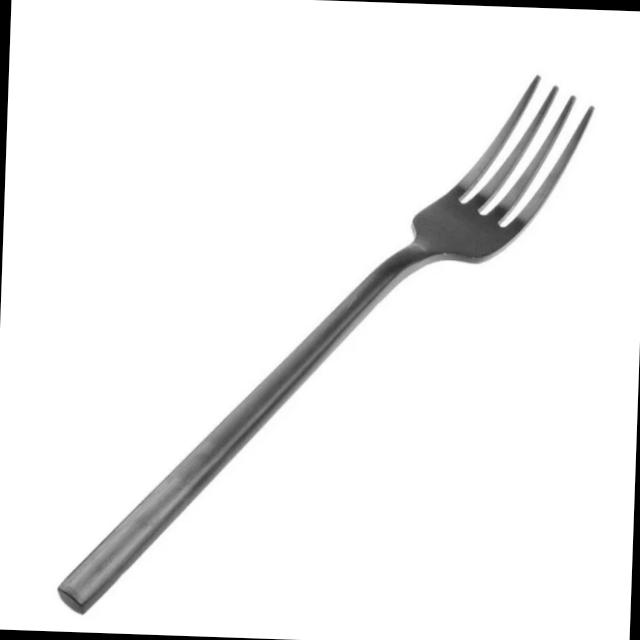fork: (52, 51, 600, 634)
